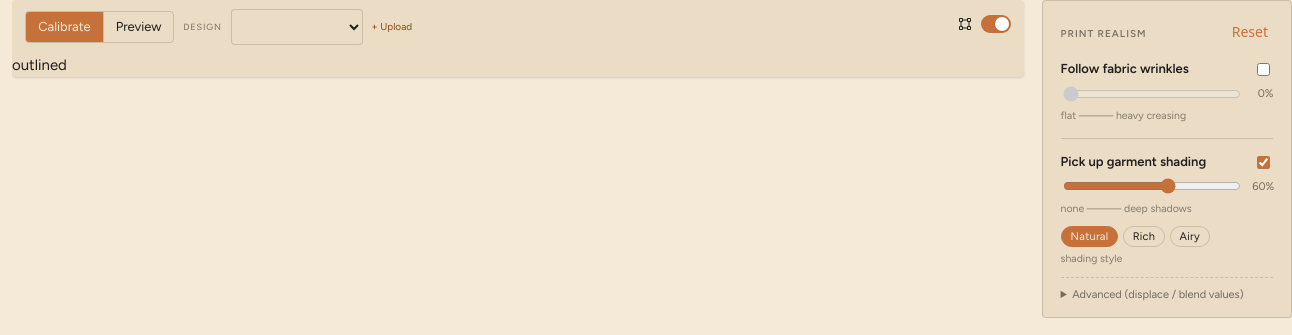
it: EditorShell › switching to Preview hides the calibration controls
The image size is (1292, 335).
Expected: the text "outlined" is shown, left=12, top=56, right=67, bottom=74
What coordinates should you click on to do the following:
click the tab "Preview"
I would click on:
 (138, 27)
Its box is left=103, top=12, right=173, bottom=42.
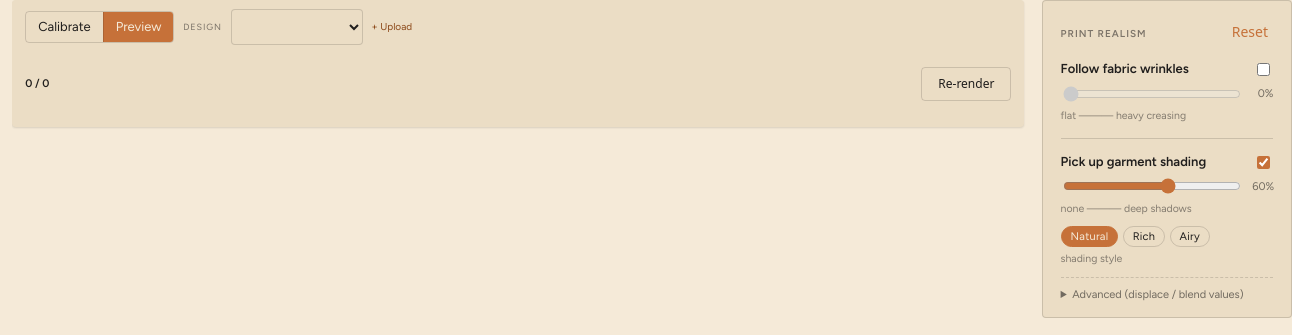
Result: the text with test id "canvas" is gone
